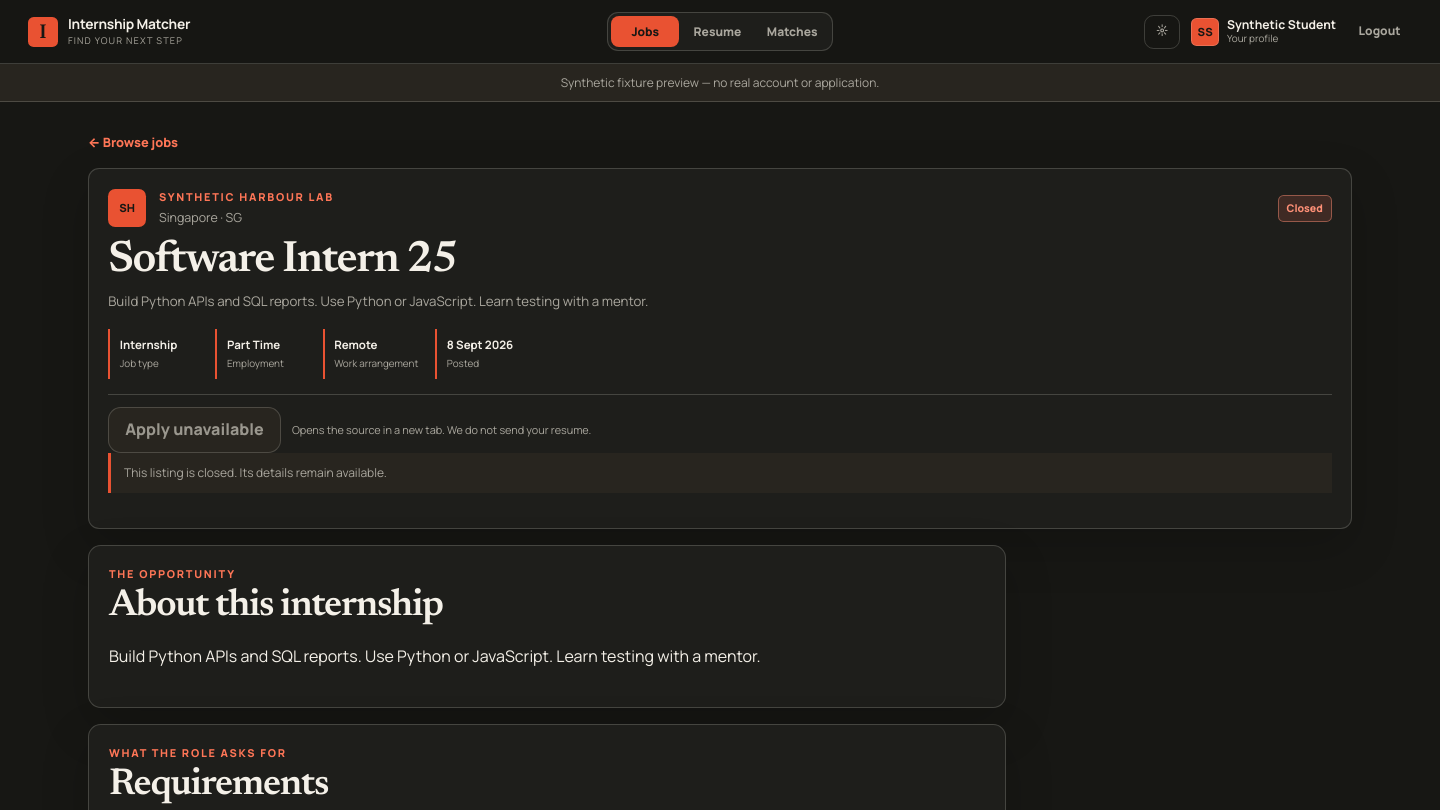
closed details remain visible with Apply disabled; unknown UUID is not found
The image size is (1440, 810).
Check: the text "This listing is closed. Its details remain available." is shown, box [108,453,1332,493]
Check: the button "Apply unavailable" is disabled, box [108,407,281,453]
Click the button "Logout".
click(1380, 32)  # box [1347,14,1412,49]
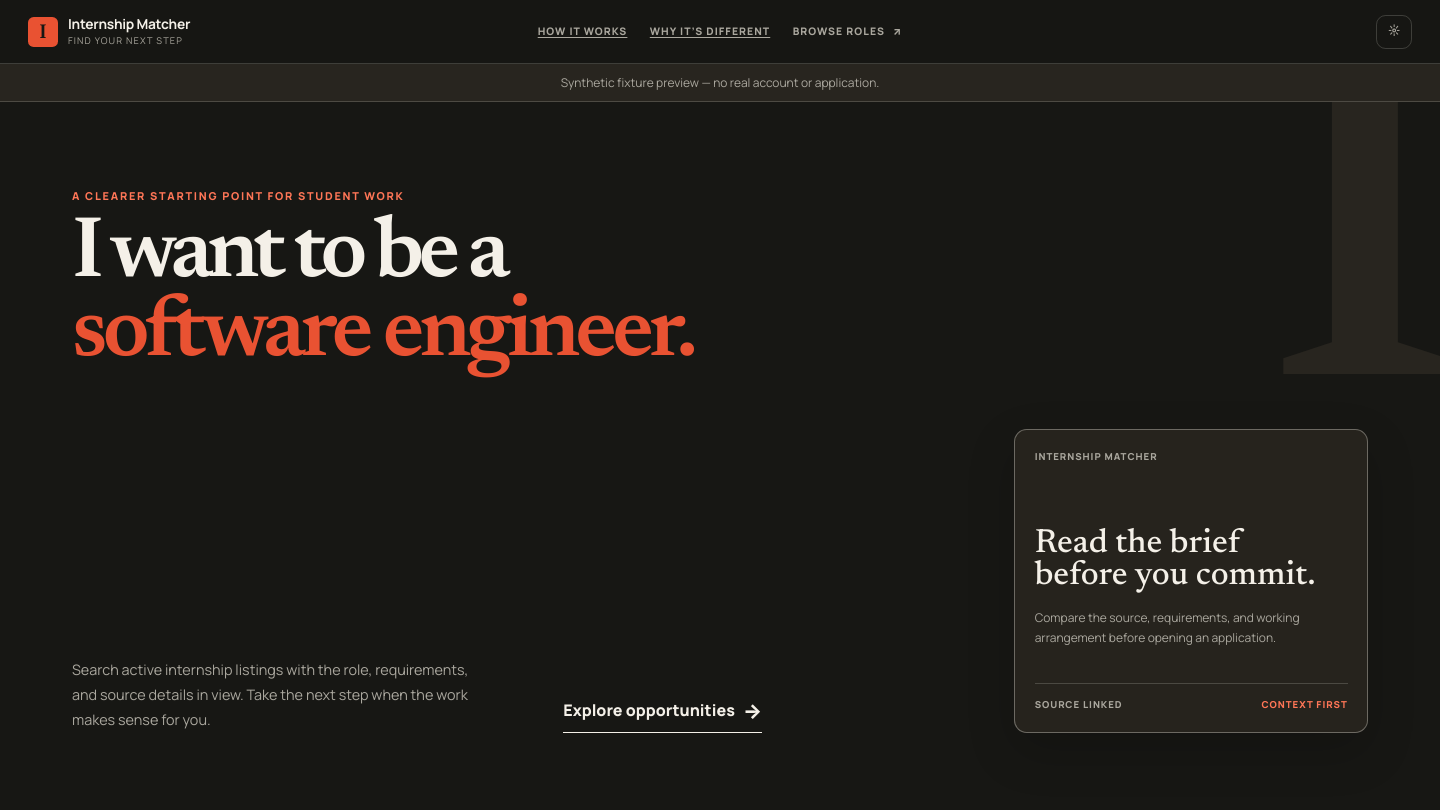
Check: the button "Browse roles ↗" is shown, box [793,21,902,42]
